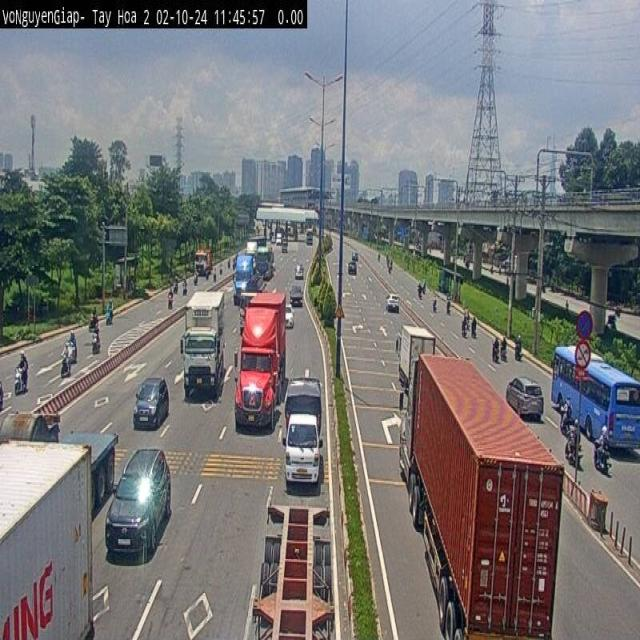bus: (550, 344, 640, 454)
car: (105, 447, 171, 558), (133, 376, 169, 430), (506, 375, 543, 421), (385, 293, 399, 311)
container-truck: (402, 350, 564, 637), (0, 443, 97, 640), (250, 494, 339, 640), (232, 290, 286, 431)
motorcycle: (593, 438, 611, 476), (14, 364, 28, 395), (60, 348, 72, 377), (90, 327, 101, 353)
truck: (280, 370, 330, 494)
